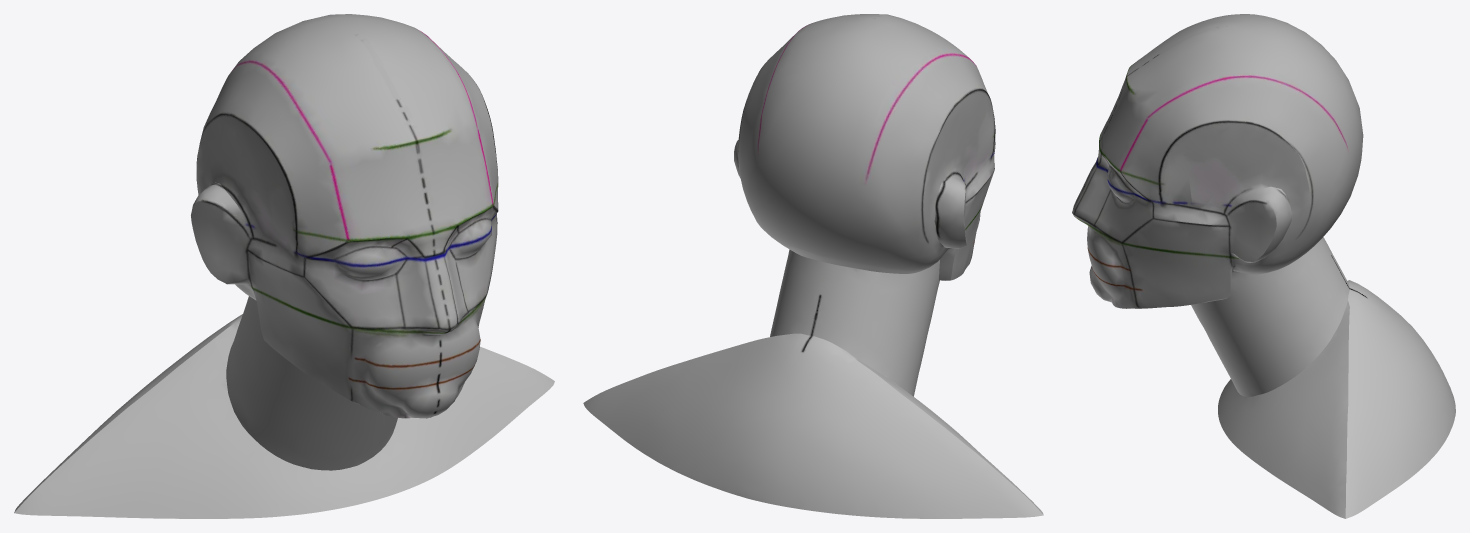
File: 头部分面体_20260324183547_opt.glb
3 renders of one model, left to right at view 1: azimuth 30°, elevation 25°; view 2: azimuth 150°, elevation 25°; view 3: azimuth 270°, elevation 25°, orthographic. The views are drawn at different scales.
Visible parts, largest first — view 1: Helmet_3_LowPoGood; view 2: Helmet_3_LowPoGood; view 3: Helmet_3_LowPoGood.
Part boxes in pixels (x1,y1,x2,y2): Helmet_3_LowPoGood: (14,14,554,518); Helmet_3_LowPoGood: (583,14,1043,518); Helmet_3_LowPoGood: (1072,14,1455,518).
Size of the model in its own units: 0.4866 by 0.4 by 0.3619.
2 materials, 1 textured.
